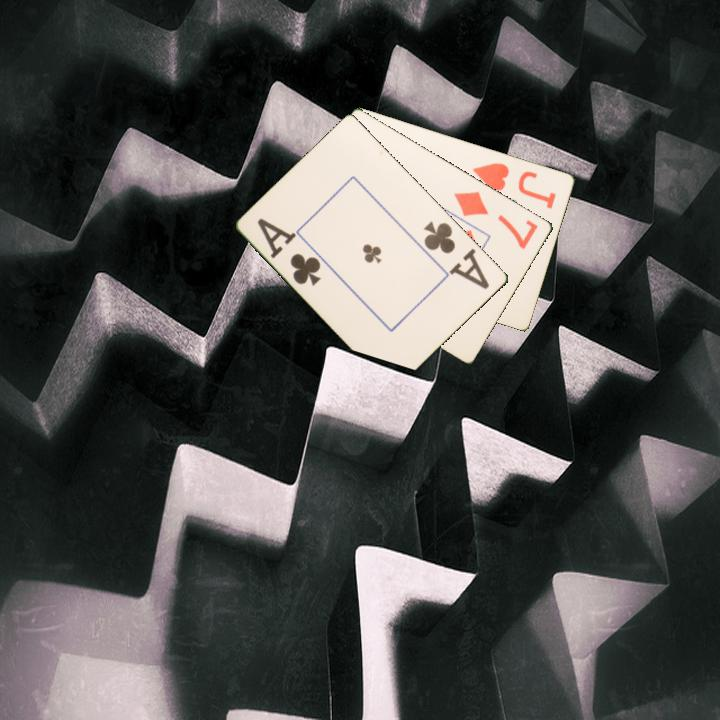7d: (451, 187, 541, 252)
Ac: (420, 217, 493, 293), (254, 214, 324, 289)
Jh: (469, 159, 559, 211)
